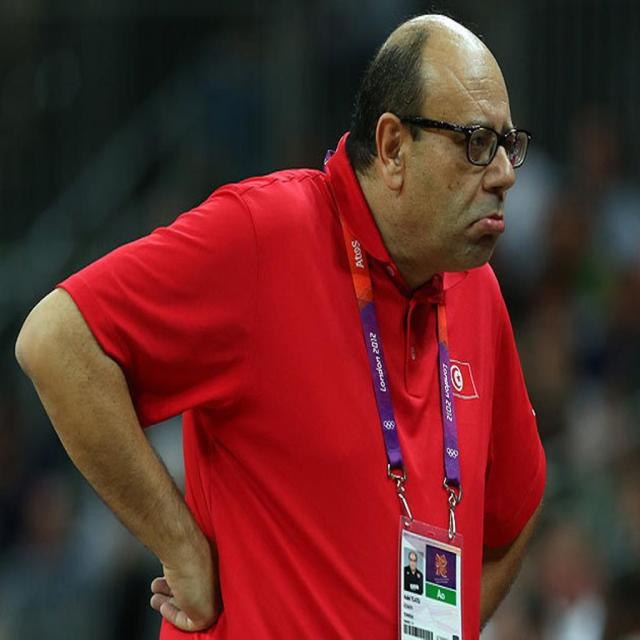Face: (409, 36, 527, 275)
